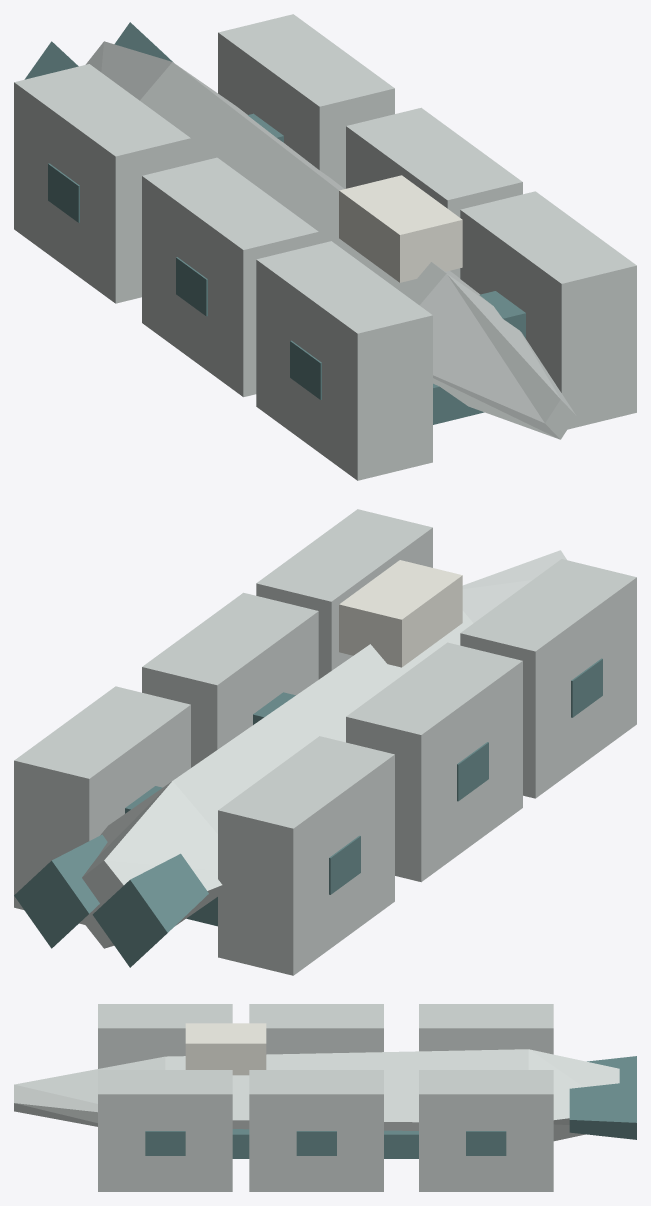
The picture shows the model from 3 angles, top to bottom: view 1: azimuth 30°, elevation 25°; view 2: azimuth 150°, elevation 25°; view 3: azimuth 270°, elevation 25°; orthographic projection. The views are drawn at different scales.
Bounding box in the file's own units: 3.6 × 2.08 × 10.37.
